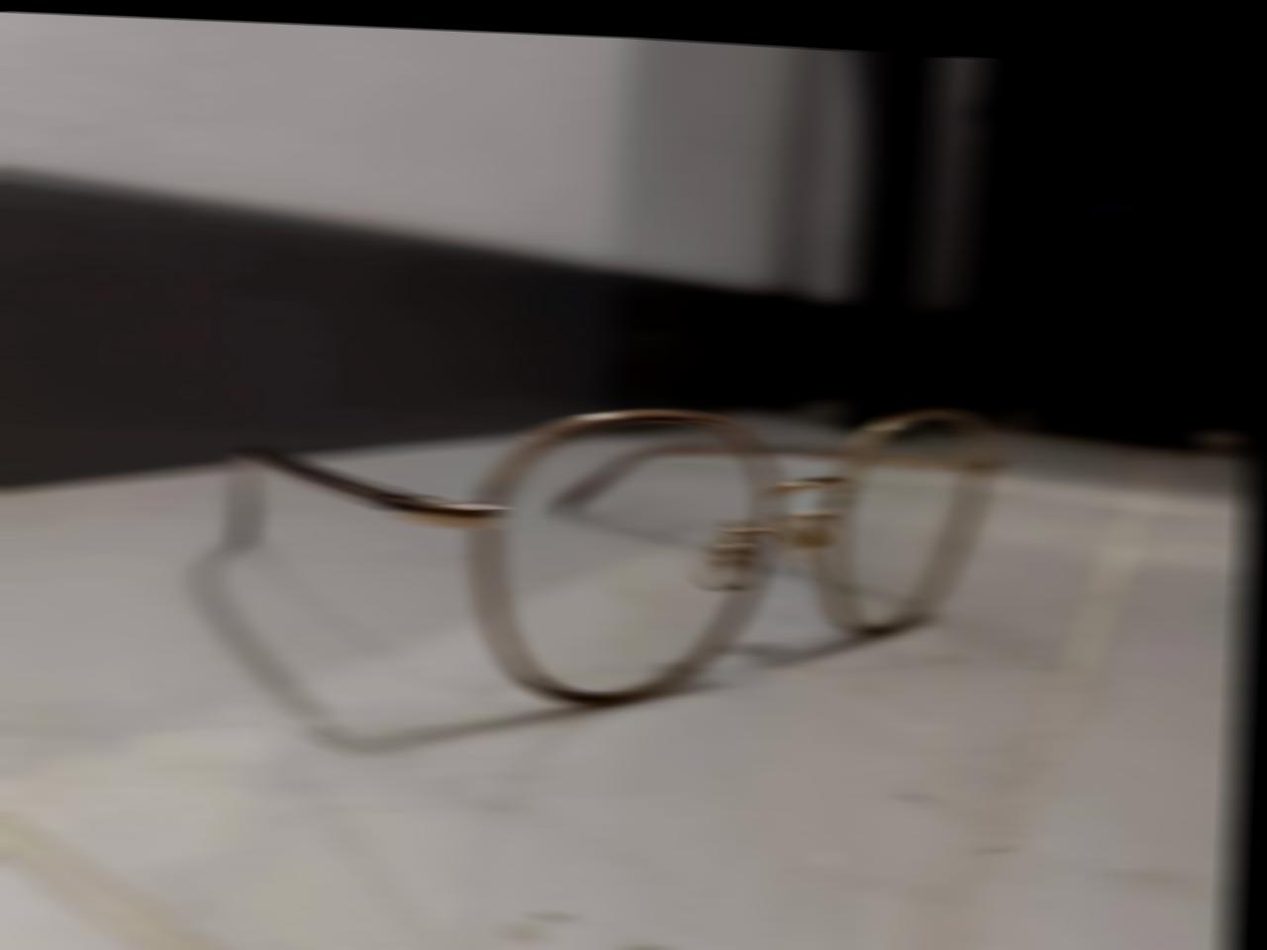glasses: (196, 361, 1034, 750)
